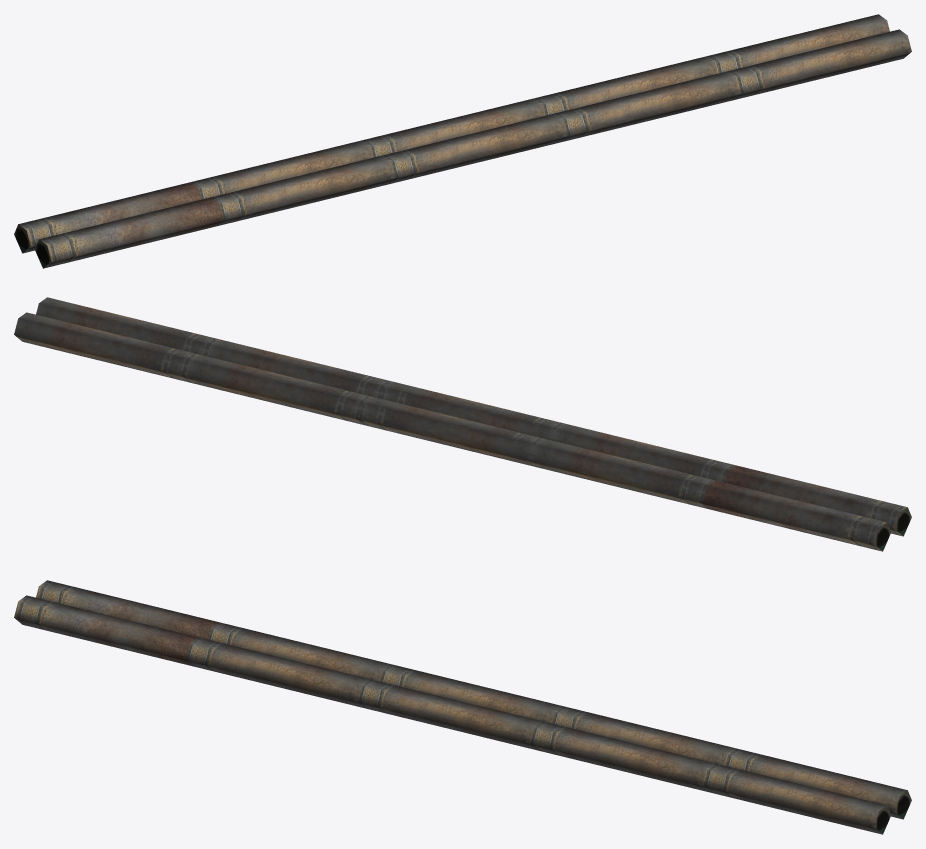
Rendered from yw_huxiaoshamo_tieguan02.FBX.
3 views of the same model, one above another, from view 1: azimuth 30°, elevation 25°; view 2: azimuth 150°, elevation 25°; view 3: azimuth 330°, elevation 25° (orthographic).
Parts seen in each view (by area): view 1: yw_huxiaoshamo_tieguan02; view 2: yw_huxiaoshamo_tieguan02; view 3: yw_huxiaoshamo_tieguan02.
Part boxes in pixels (left/top/right/bottom): yw_huxiaoshamo_tieguan02: left=14, top=14, right=911, bottom=268; yw_huxiaoshamo_tieguan02: left=14, top=297, right=911, bottom=551; yw_huxiaoshamo_tieguan02: left=14, top=580, right=911, bottom=834.
Bounding box in the file's own units: 1242 × 36.28 × 93.53.
